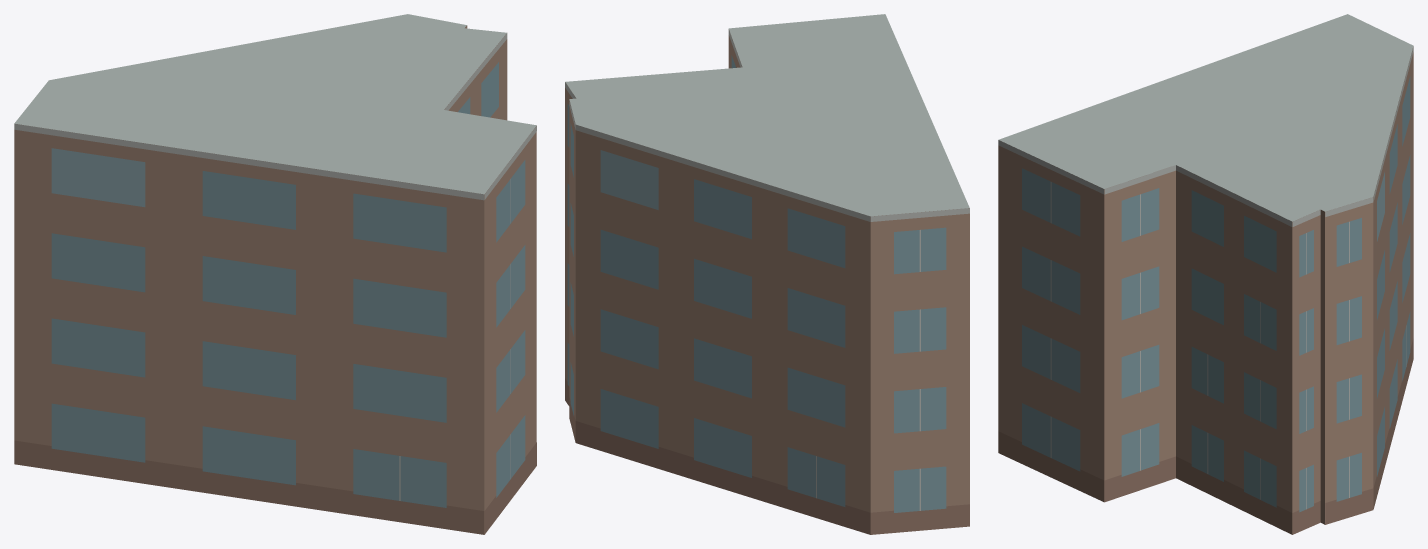
File: survey-upis-32736780.glb
3 views of the same model, side by side, from view 1: azimuth 30°, elevation 25°; view 2: azimuth 150°, elevation 25°; view 3: azimuth 270°, elevation 25° (orthographic). The views are drawn at different scales.
Parts seen in each view (by area): view 1: survey-upis-32736780.tmp; view 2: survey-upis-32736780.tmp; view 3: survey-upis-32736780.tmp.
Part boxes in pixels (box(x1,y1,x2,y2)): survey-upis-32736780.tmp: box(14, 14, 536, 534); survey-upis-32736780.tmp: box(565, 14, 969, 534); survey-upis-32736780.tmp: box(998, 14, 1413, 534).
Size of the model in its own units: 19.61 by 13.78 by 16.57.
